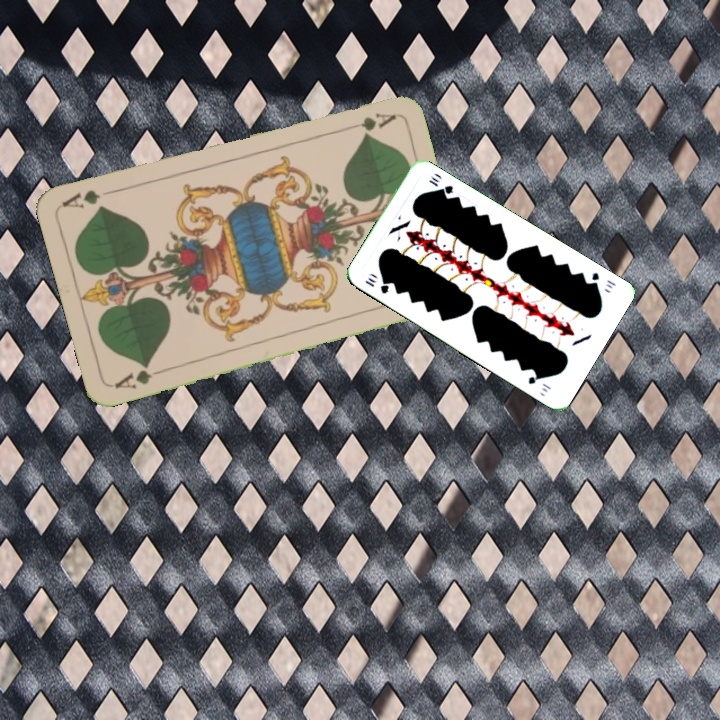G10: (586, 268, 619, 292), (361, 274, 392, 296)
GA: (110, 359, 167, 392), (339, 108, 398, 134)
